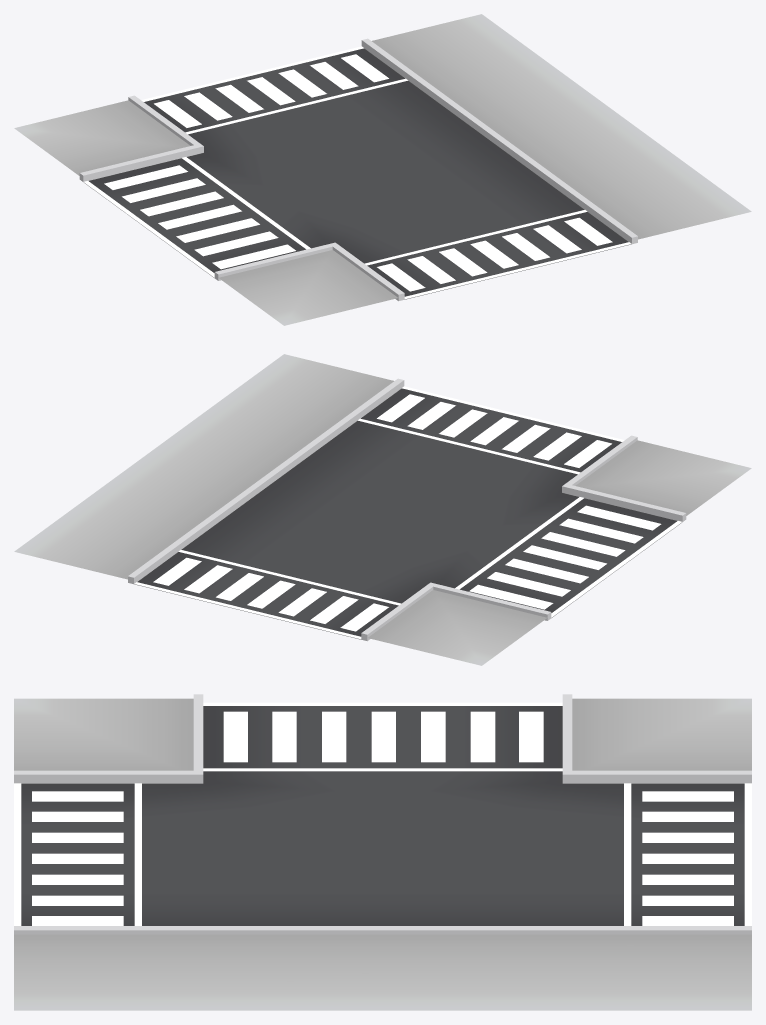
Rendered from city2-road-026.glb.
3 views of the same model, one above another, from view 1: azimuth 30°, elevation 25°; view 2: azimuth 150°, elevation 25°; view 3: azimuth 270°, elevation 25° (orthographic). The views are drawn at different scales.
Visible parts, largest first — view 1: road_026; view 2: road_026; view 3: road_026.
Boxes of the visible parts, x1,y1,x2,y2 form: road_026: (14,14,751,325); road_026: (14,354,751,665); road_026: (14,694,751,1010).
Size of the model in its own units: 15 by 0.2 by 15.
1 material, 1 textured.
